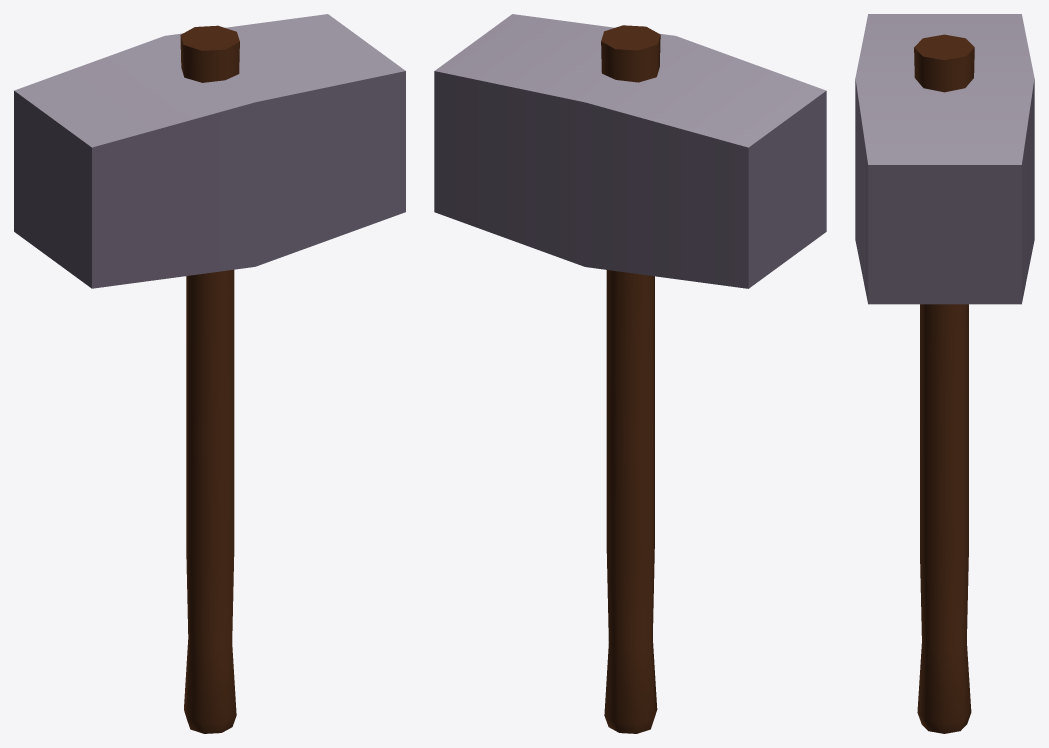
Rendered from VillagerHammer.fbx.
3 views of the same model, side by side, from view 1: azimuth 30°, elevation 25°; view 2: azimuth 150°, elevation 25°; view 3: azimuth 270°, elevation 25° (orthographic).
Parts seen in each view (by area): view 1: VillagerHammer; view 2: VillagerHammer; view 3: VillagerHammer.
Boxes of the visible parts, x1,y1,x2,y2 form: VillagerHammer: (14, 14, 405, 733); VillagerHammer: (434, 14, 826, 733); VillagerHammer: (855, 14, 1034, 733).
Size of the model in its own units: 27.32 by 57.07 by 13.68.
